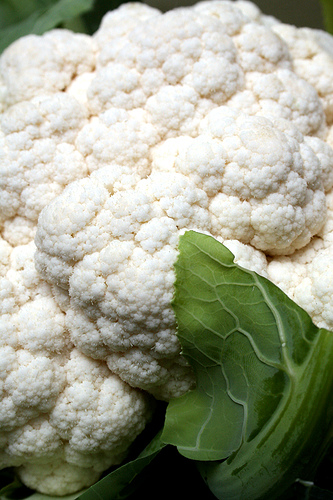cauliflower: (0, 0, 331, 498)
